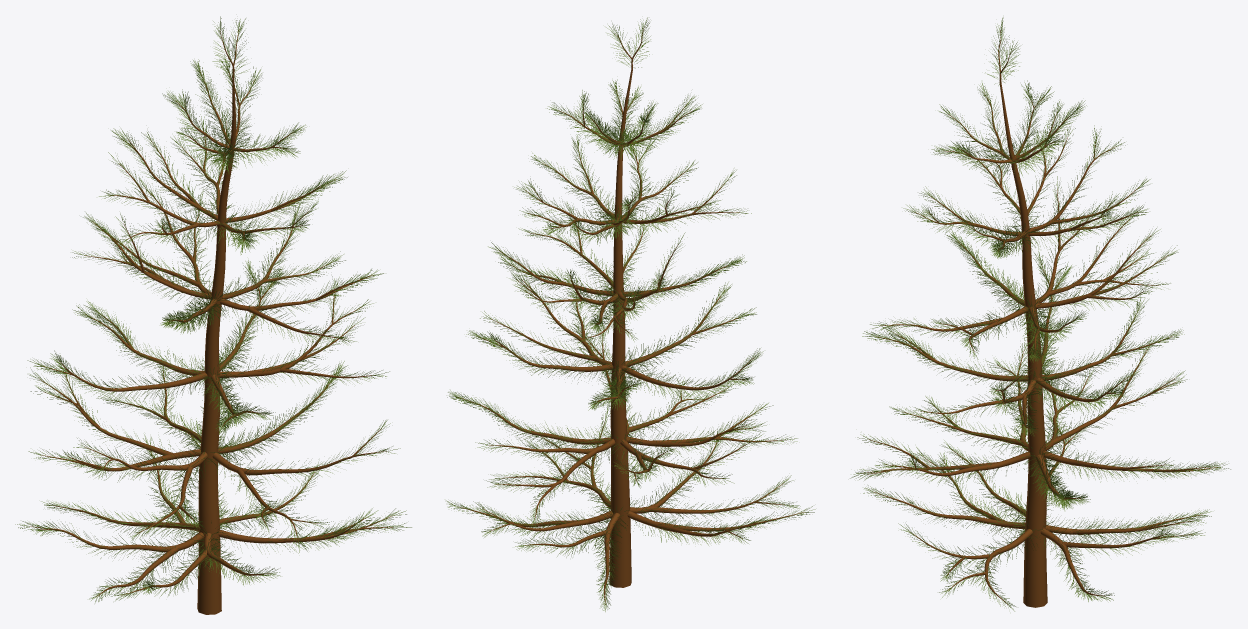
Rendered from pine.fbx.
The picture shows the model from 3 angles, left to right: view 1: azimuth 30°, elevation 25°; view 2: azimuth 150°, elevation 25°; view 3: azimuth 270°, elevation 25°; orthographic projection. The views are drawn at different scales.
Parts seen in each view (by area): view 1: leaves, tree; view 2: leaves, tree; view 3: leaves, tree.
Part boxes in pixels (x1,y1,x2,y2): leaves: (15, 16, 411, 602); tree: (29, 29, 392, 614); leaves: (446, 17, 815, 611); tree: (457, 27, 804, 604); leaves: (850, 17, 1230, 611); tree: (862, 30, 1217, 607).
Bounding box in the file's own units: 3.77 × 6.44 × 3.87.
